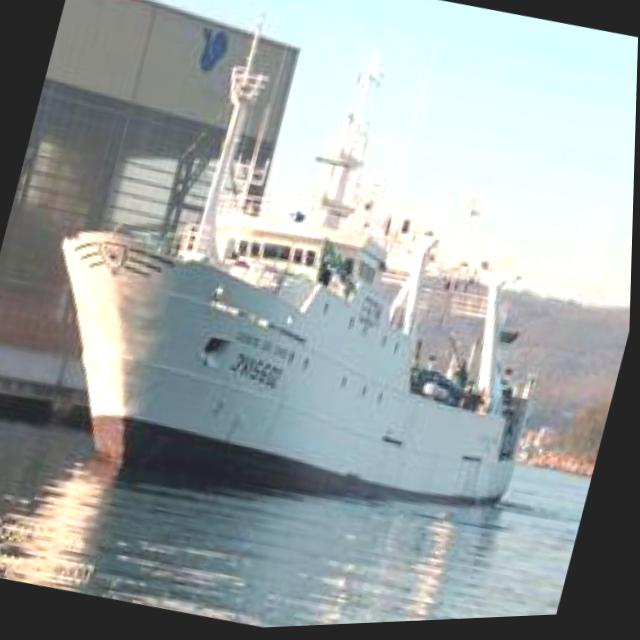ship2: (62, 34, 537, 516)
